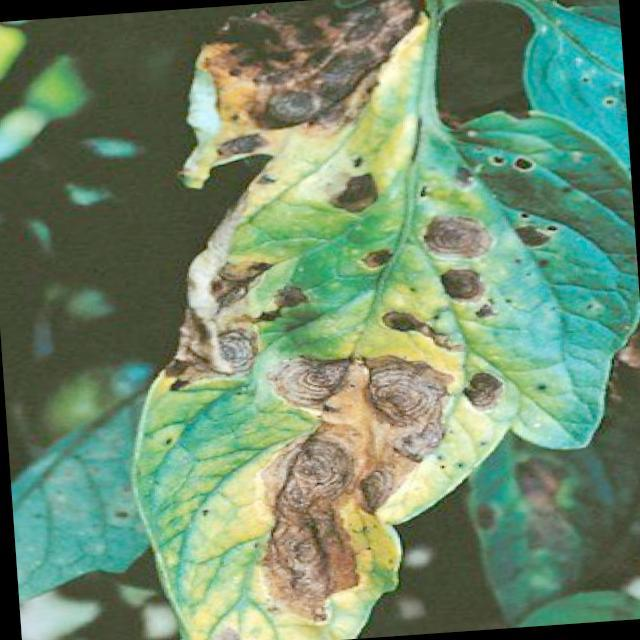Tomato Early blight leaf: (100, 0, 640, 640)
